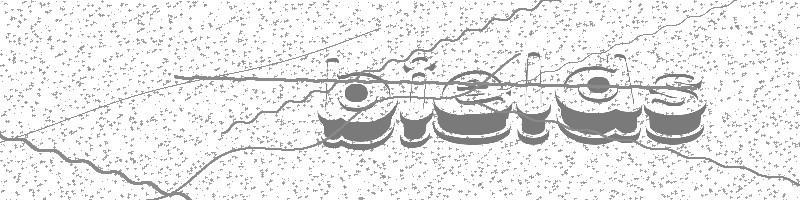b: (316, 57, 399, 151)
d: (554, 53, 643, 144)
e: (432, 70, 513, 146)
i: (400, 56, 431, 149)
l: (516, 51, 552, 145)
s: (645, 72, 706, 144)
